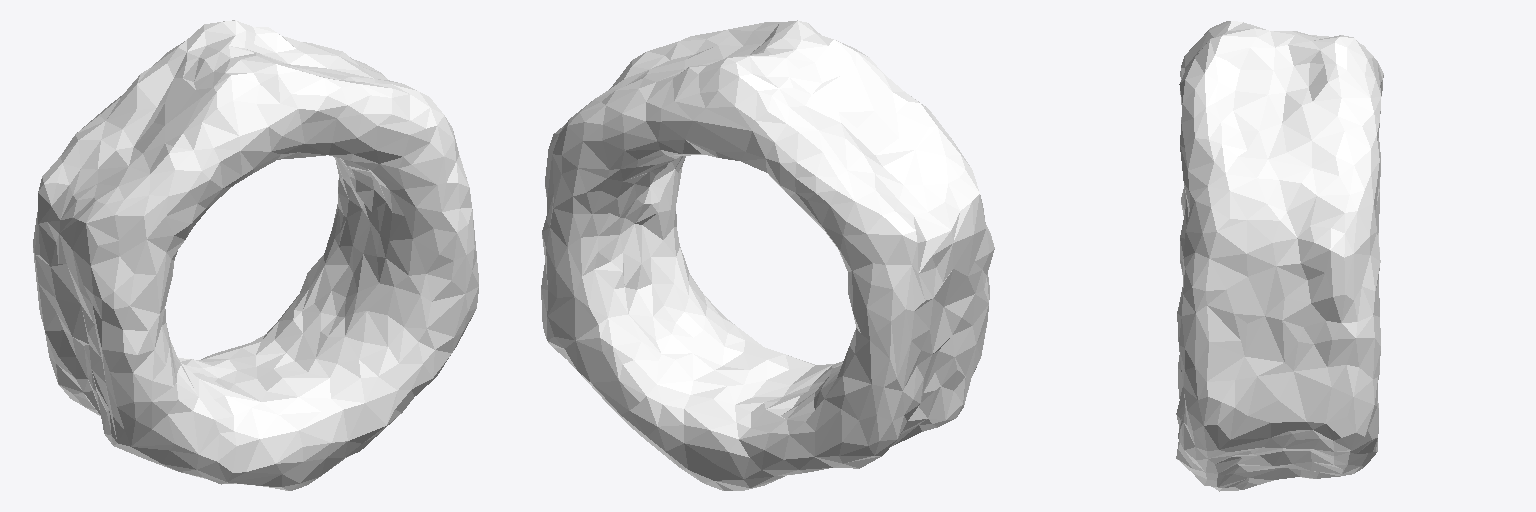
robot.urdf — atb1_nut-m4:
<?xml version="0.0" ?>
<robot name="atb1_nut-m4">
  <link name="baseLink">
    <contact>
      <friction_anchor/>
      <lateral_friction value="0.8"/>
      <spinning_friction value="0.001"/>
      <rolling_friction value="0.001"/>
      <contact_cfm value="0.0"/>
      <contact_erp value="0.2"/>
    </contact>
    <inertial>
       <origin rpy="0 0 0" xyz="0 0 0"/>
       <mass value="0.01"/>
       <inertia ixx="1e-3" ixy="0" ixz="0" iyy="1e-3" iyz="0" izz="1e-3"/>
    </inertial>
    <visual>
      <origin rpy="0 0 0" xyz="0 0 0"/>
      <geometry>
        <mesh filename="obj/fused_model.obj" scale="1 1 1"/>
      </geometry>
      <material name="white">
        <color rgba="1. 1. 1. 1."/>
      </material>
    </visual>
    <collision>
      <origin rpy="0 0 0" xyz="0 0 0"/>
      <geometry>
        <mesh filename="obj/fused_model.obj" scale="1 1 1"/>
      </geometry>
    </collision>
  </link>
</robot>

--- Facts derived from the render (not from the file) ---
Views: 3 orthographic renders of the robot side by side, from view 1: azimuth 30°, elevation 25°; view 2: azimuth 150°, elevation 25°; view 3: azimuth 270°, elevation 25°.
Robot: atb1_nut-m4 — 1 links, 0 joints (none); root link baseLink; default pose: every joint at zero.
Links seen in each view (by area): view 1: baseLink; view 2: baseLink; view 3: baseLink.
Boxes of the visible links, box(x1,y1,x2,y2) form: baseLink: box(33, 20, 478, 490); baseLink: box(541, 20, 994, 490); baseLink: box(1176, 21, 1383, 491).
Bounding box of the posed robot: 0.0062 × 0.0028 × 0.0067 m (x, y, z).
1 mesh visuals loaded from 1 distinct referenced files (1 OBJ).
